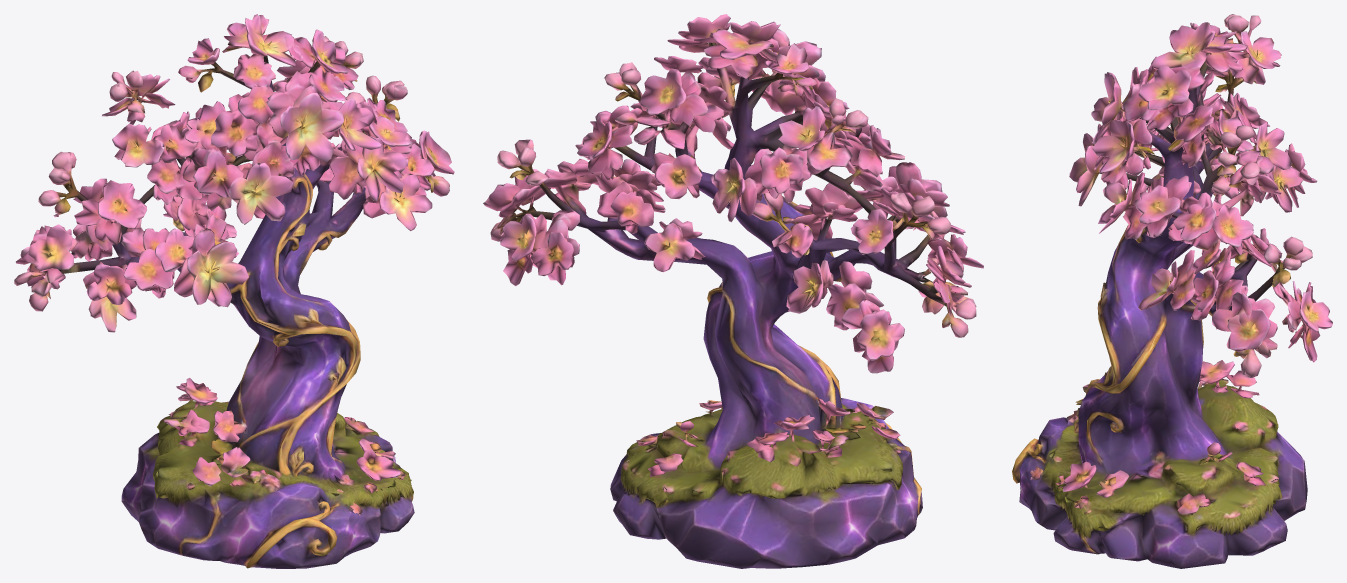
File: blossom-tree.medium.glb
3 views of the same model, side by side, from view 1: azimuth 30°, elevation 25°; view 2: azimuth 150°, elevation 25°; view 3: azimuth 270°, elevation 25° (orthographic). The views are drawn at different scales.
Parts seen in each view (by area): view 1: tripo_node_fba2f8da-5170-48e9-ae1e-a088e1c435ea; view 2: tripo_node_fba2f8da-5170-48e9-ae1e-a088e1c435ea; view 3: tripo_node_fba2f8da-5170-48e9-ae1e-a088e1c435ea.
Boxes of the visible parts, x1,y1,x2,y2 form: tripo_node_fba2f8da-5170-48e9-ae1e-a088e1c435ea: (14,14,454,568); tripo_node_fba2f8da-5170-48e9-ae1e-a088e1c435ea: (483,14,983,568); tripo_node_fba2f8da-5170-48e9-ae1e-a088e1c435ea: (1012,14,1332,568).
Size of the model in its own units: 7.29 by 7.39 by 4.47.
Materials: 1 (1 with a texture image).
